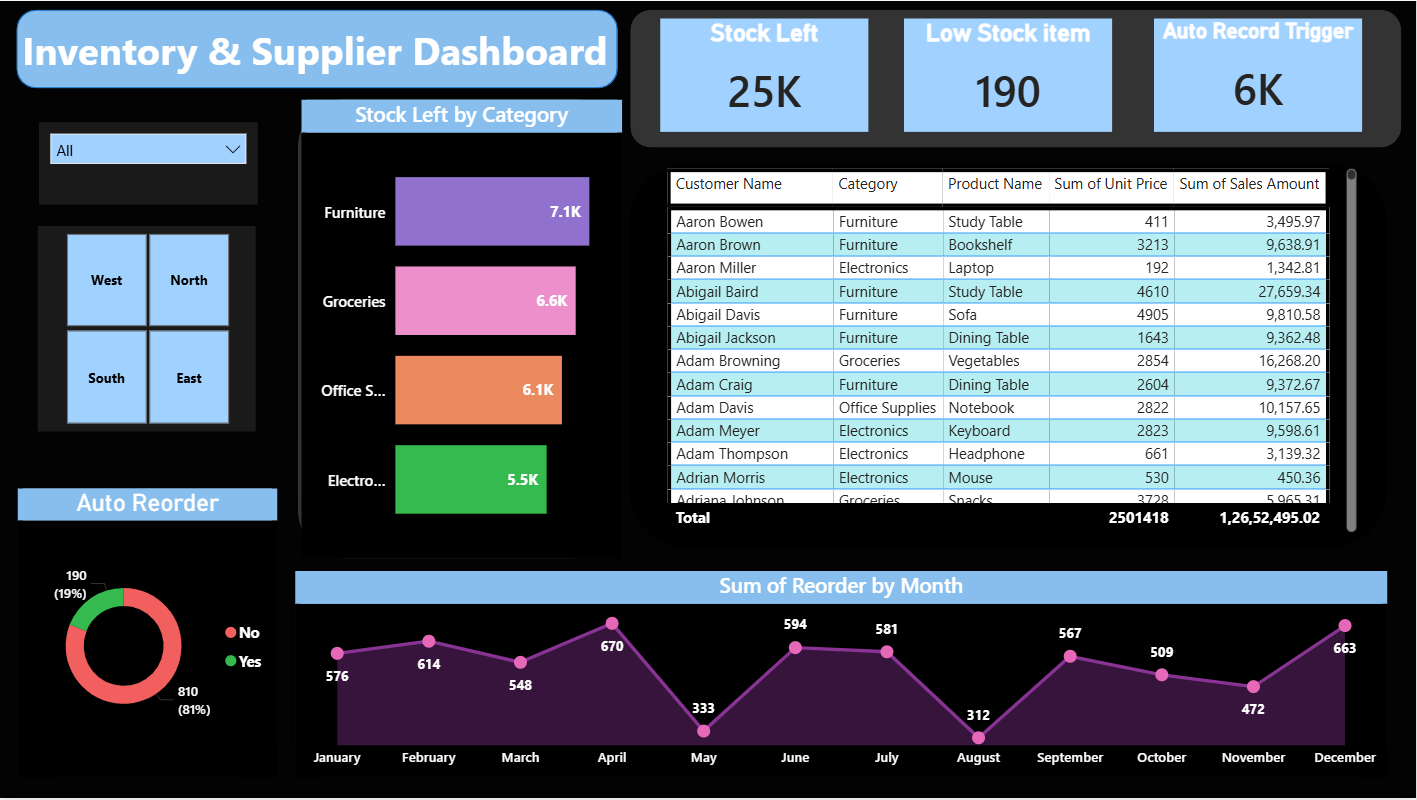

The dashboard page shown, as its layout file describes it:
{"tool":"powerbi","page":{"name":"Inventory & Supplier Dashboard","canvas":[1280,720],"ordinal":1},"visuals":[{"type":"shape","box":[16.3,8.1,543,70.9],"z":0},{"type":"shape","box":[569.8,8.1,696.5,124.4],"z":0,"group":"g1"},{"type":"cardVisual","title":"Stock Left","fields":{"Data":["Sum(Superstore_Management_Dataset.Stock Left)"]},"box":[596.5,16.2,188.4,102.3],"z":1000,"group":"g1"},{"type":"slicer","fields":{"Values":["Superstore_Management_Dataset.Category"]},"box":[35.7,109.8,197.6,74.1],"z":1000},{"type":"group","id":"g1","title":"Group 2","box":[569.8,8.1,696.5,124.4],"z":2000},{"type":"cardVisual","title":"Low Stock item","fields":{"Data":["CountNonNull(Superstore_Management_Dataset.Stock Left)"]},"box":[817.5,16.2,188.4,102.3],"z":2000,"group":"g1"},{"type":"cardVisual","title":"Auto Record Trigger","fields":{"Data":["Sum(Superstore_Management_Dataset.Reorder Quantity)"]},"box":[1043.1,16.2,188.4,102.3],"z":3000,"group":"g1"},{"type":"shape","box":[569.5,146.8,684.7,347.2],"z":3000},{"type":"shape","box":[270.3,87.8,292.3,415.8],"z":4000},{"type":"shape","box":[267.6,514.6,986.6,186.6],"z":5000},{"type":"shape","box":[16.5,440.5,234.6,260.7],"z":6000},{"type":"donutChart","title":"Auto Reorder","fields":{"Category":["Superstore_Management_Dataset.Auto Reorder"],"Y":["CountNonNull(Superstore_Management_Dataset.Auto Reorder)"]},"box":[16.5,440.5,234.6,260.7],"z":7000},{"type":"lineChart","title":"Sum of Reorder by Month","fields":{"Category":["Superstore_Management_Dataset.Order Date.Variation.Date Hierarchy.Month"],"Y":["Sum(Superstore_Management_Dataset.Reorder Quantity)"]},"box":[267.6,514.6,986.6,186.6],"z":8000},{"type":"clusteredBarChart","title":"Stock Left by Category","fields":{"Y":["Sum(Superstore_Management_Dataset.Stock Left)"],"Category":["Superstore_Management_Dataset.Category"]},"box":[272.7,89.1,289.4,414.1],"z":9000},{"type":"tableEx","fields":{"Values":["Superstore_Management_Dataset.Customer Name","Superstore_Management_Dataset.Category","Superstore_Management_Dataset.Product Name","Sum(Superstore_Management_Dataset.Unit Price)","Sum(Superstore_Management_Dataset.Sales Amount)"]},"box":[596.9,146.8,634,337.6],"z":10000},{"type":"slicer","fields":{"Values":["Superstore_Management_Dataset.Region"]},"box":[34.9,202.7,196.9,185.2],"z":11000}]}

Visuals, with their boxes in screenshot pixels (x1, y1, x2, y2), scaled from the page's 1280x720 canvas onto the 1417x800 screenshot:
shape: 18:9:619:88
shape: 631:9:1402:147
"Stock Left" cardVisual: 660:18:869:132
slicer - Superstore_Management_Dataset.Category: 40:122:258:204
"Group 2" group: 631:9:1402:147
"Low Stock item" cardVisual: 905:18:1114:132
"Auto Record Trigger" cardVisual: 1155:18:1363:132
shape: 630:163:1388:549
shape: 299:98:623:560
shape: 296:572:1388:779
shape: 18:489:278:779
"Auto Reorder" donutChart: 18:489:278:779
"Sum of Reorder by Month" lineChart: 296:572:1388:779
"Stock Left by Category" clusteredBarChart: 302:99:622:559
tableEx - Superstore_Management_Dataset.Customer Name x Superstore_Management_Dataset.Category: 661:163:1363:538
slicer - Superstore_Management_Dataset.Region: 39:225:257:431
